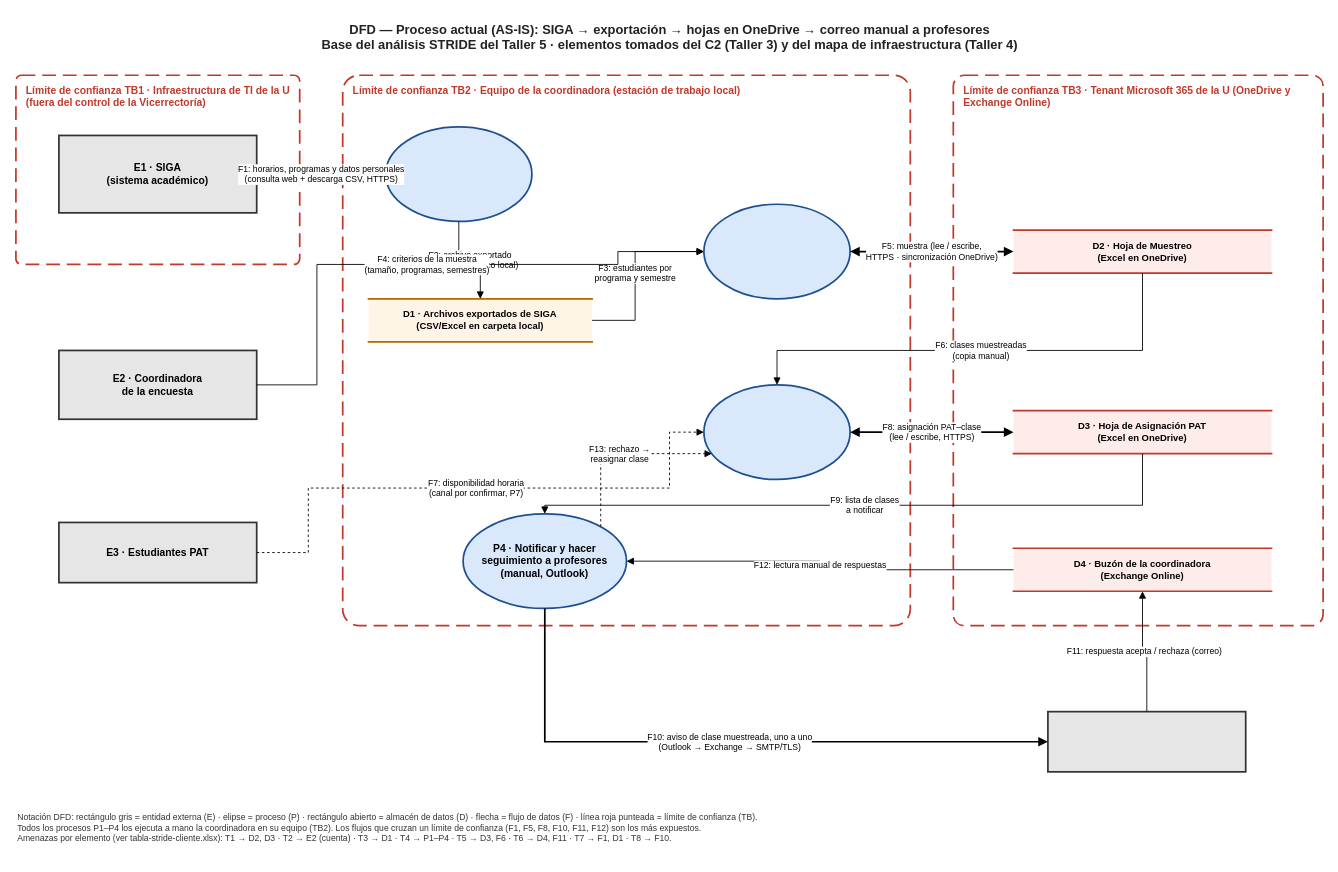
Image size: 1338x872. Some labels were removed from this diagram. The shapes that lost their labels are listed below. From the top down, each one's centre as x and y in pixels, then its label:
At pixel 458 174: "P1 · Exportar datos de SIGA (manual)".
At pixel 777 251: "P2 · Construir la muestra (manual, Excel)".
At pixel 777 432: "P3 · Asignar PAT a clases (manual, Excel)".
At pixel 1146 741: "E4 · Profesores".
